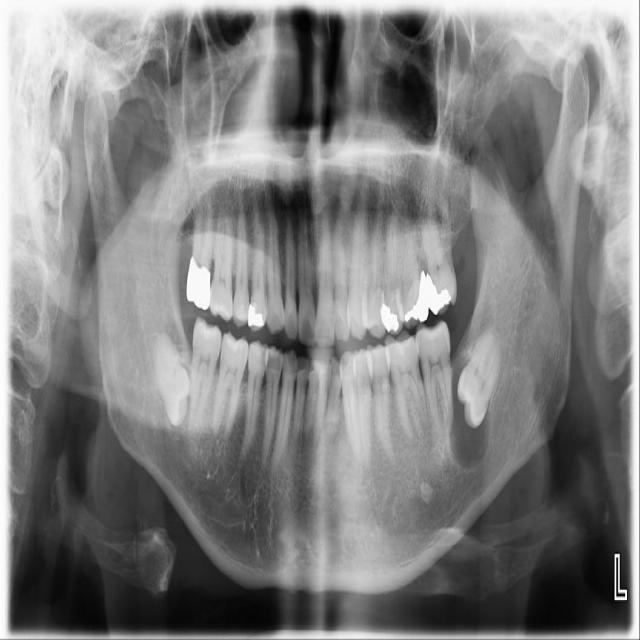Crown: (188, 263, 213, 310)
Filling: (420, 267, 453, 312), (405, 277, 427, 324), (379, 304, 401, 333), (247, 302, 266, 331)
Periapical lesion: (448, 401, 491, 467)
impacted tooth: (456, 325, 500, 423), (145, 329, 188, 425)
